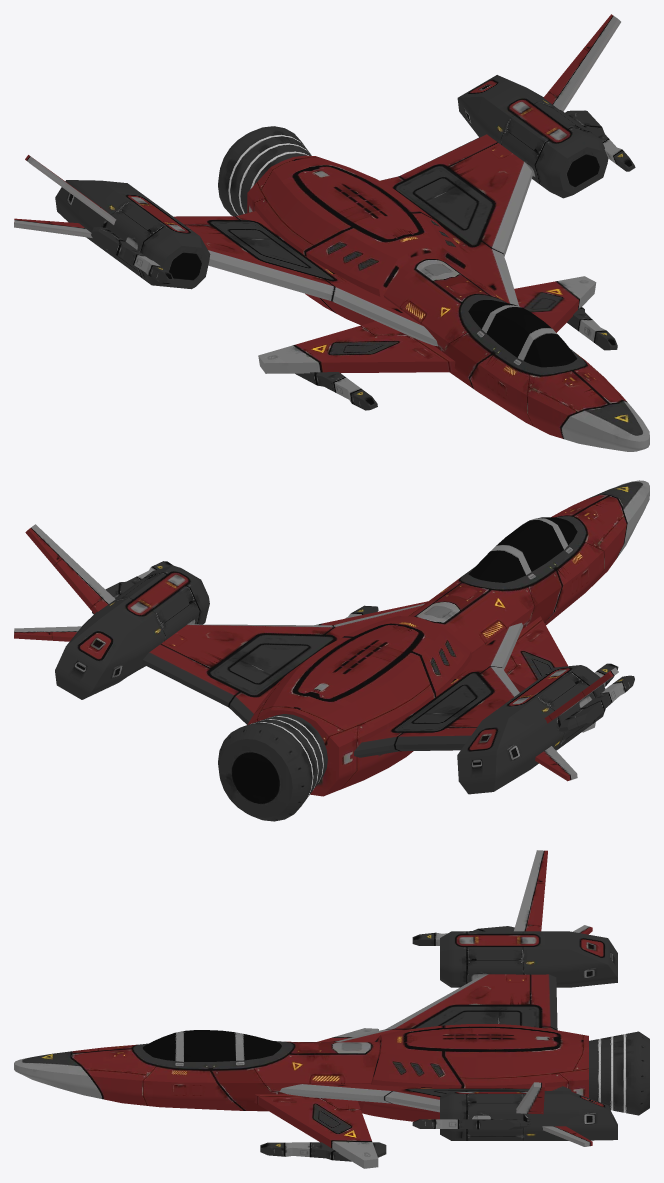
The model's file is ship_sparrow.glb.
3 renders of one model, top to bottom at view 1: azimuth 30°, elevation 25°; view 2: azimuth 150°, elevation 25°; view 3: azimuth 270°, elevation 25°, orthographic. The views are drawn at different scales.
Parts seen in each view (by area): view 1: Object_14; view 2: Object_14; view 3: Object_14.
Part boxes in pixels (x1,y1,x2,y2): Object_14: [14, 14, 649, 451]; Object_14: [14, 480, 649, 821]; Object_14: [14, 850, 649, 1168].
Bounding box in the file's own units: 5.55 × 1.6 × 6.34.
Materials: 1 (1 with a texture image).
